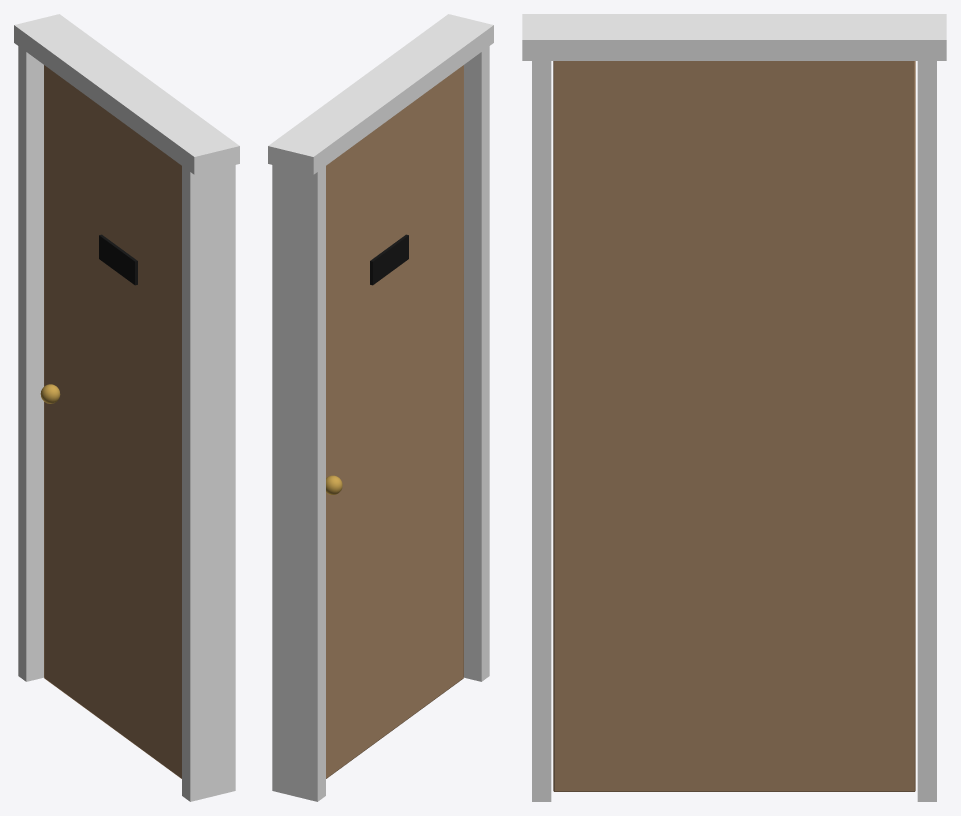
The model's file is door.fbx.
3 views of the same model, side by side, from view 1: azimuth 30°, elevation 25°; view 2: azimuth 150°, elevation 25°; view 3: azimuth 270°, elevation 25° (orthographic). The views are drawn at different scales.
Parts seen in each view (by area): view 1: Door; view 2: Door; view 3: Door.
Boxes of the visible parts, box(x1,y1,x2,y2) form: Door: box(14, 14, 239, 801); Door: box(268, 14, 493, 801); Door: box(522, 14, 946, 801).
Bounding box in the file's own units: 0.16 × 2.18 × 1.1.
